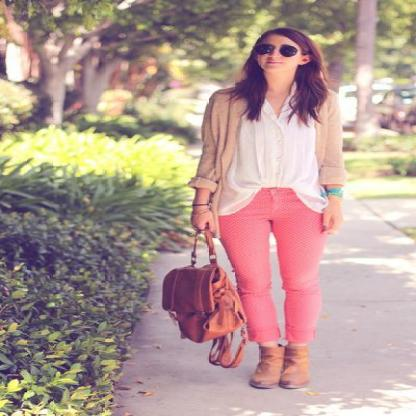bag: (162, 234, 255, 368)
jacket: (187, 83, 352, 191)
pants: (218, 187, 334, 345)
shirt: (219, 97, 328, 215)
shoe: (249, 330, 315, 389)
